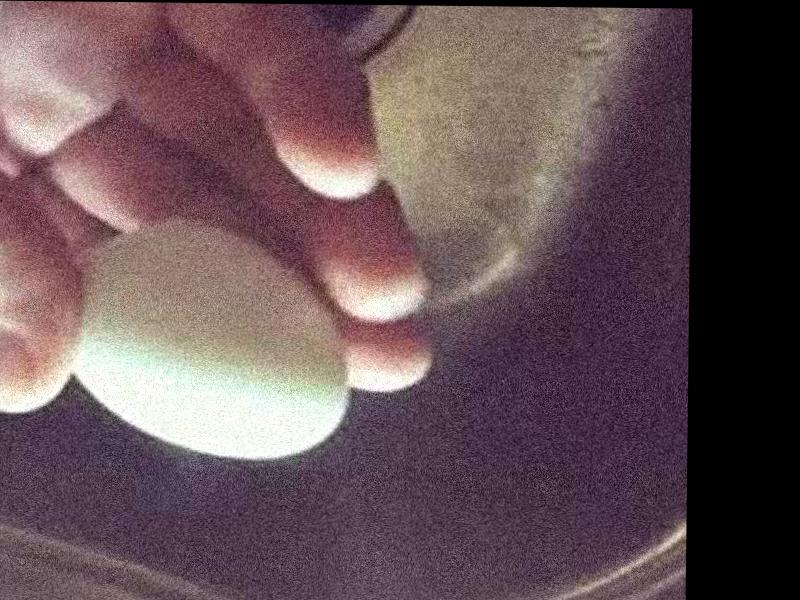Eggs: (66, 224, 344, 460)
